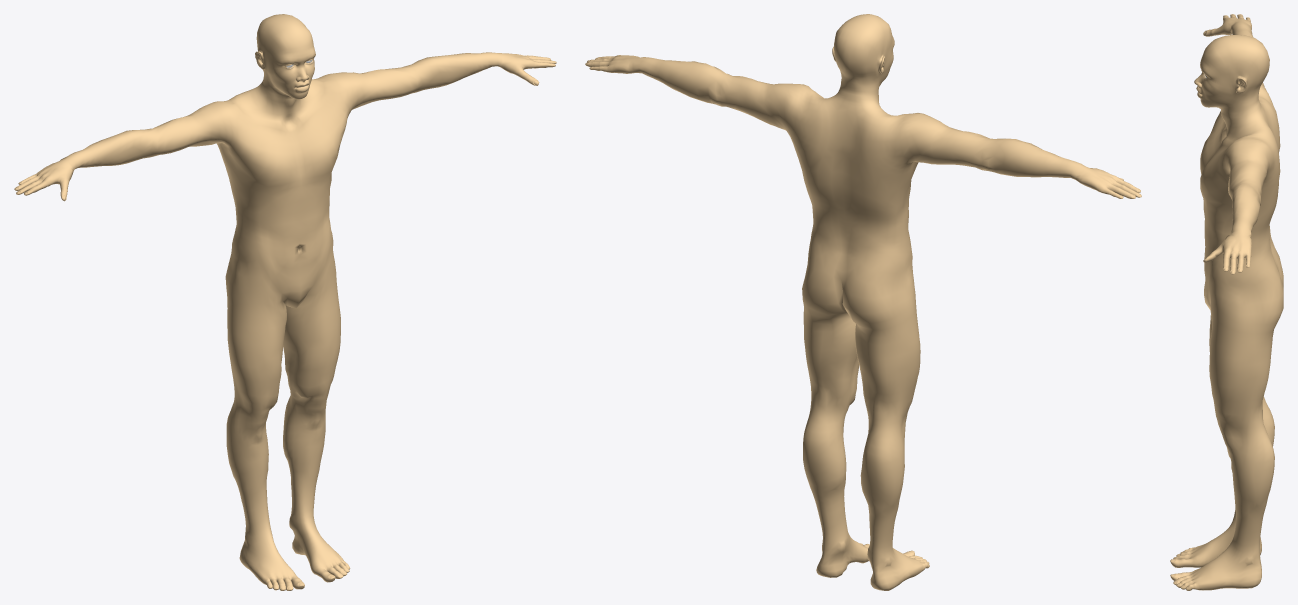
File: BaseHuman.fbx
3 views of the same model, side by side, from view 1: azimuth 30°, elevation 25°; view 2: azimuth 150°, elevation 25°; view 3: azimuth 270°, elevation 25° (orthographic). The views are drawn at different scales.
Visible parts, largest first — view 1: human_male_base03; view 2: human_male_base03; view 3: human_male_base03.
Part boxes in pixels (x1,y1,x2,y2): human_male_base03: [14, 14, 556, 590]; human_male_base03: [585, 14, 1141, 590]; human_male_base03: [1170, 14, 1283, 590].
Bounding box in the file's own units: 183 × 177 × 33.84.
